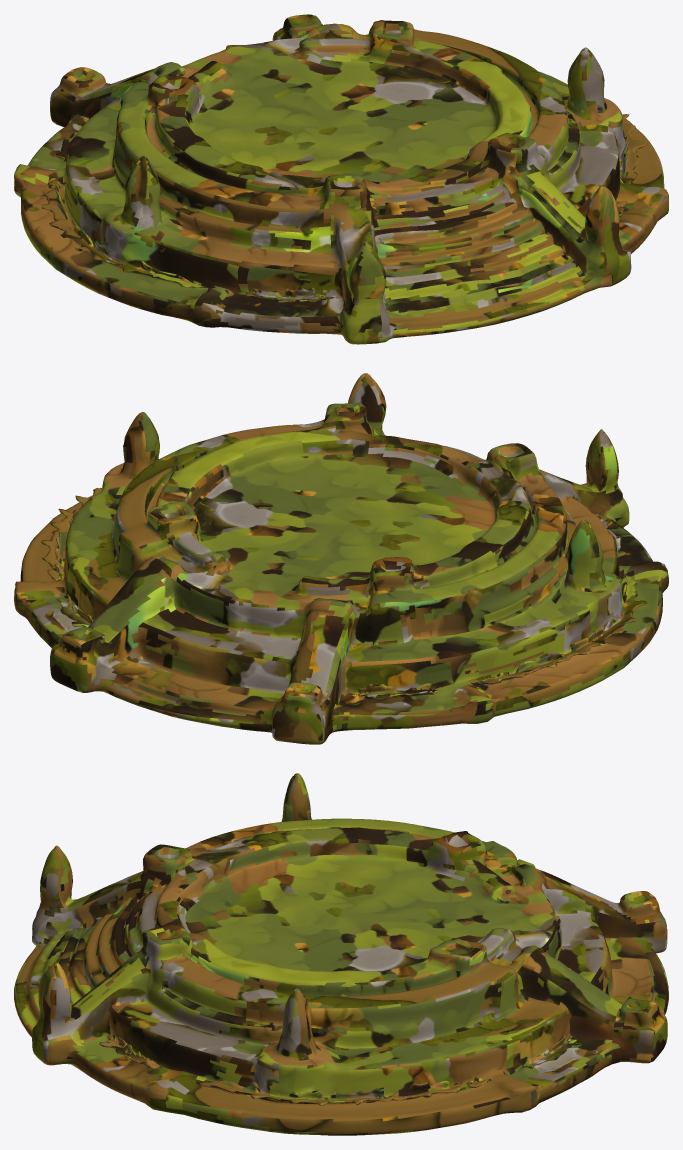
Rendered from nat-Base-Base-21000.fbx.
3 renders of one model, top to bottom at view 1: azimuth 30°, elevation 25°; view 2: azimuth 150°, elevation 25°; view 3: azimuth 270°, elevation 25°, orthographic.
Parts seen in each view (by area): view 1: tripo_node_c4c23202; view 2: tripo_node_c4c23202; view 3: tripo_node_c4c23202.
Part boxes in pixels (x1,y1,x2,y2): tripo_node_c4c23202: (14, 14, 668, 344); tripo_node_c4c23202: (14, 373, 668, 744); tripo_node_c4c23202: (14, 773, 668, 1135).
Size of the model in its own units: 0.9777 by 0.1947 by 0.9733.
